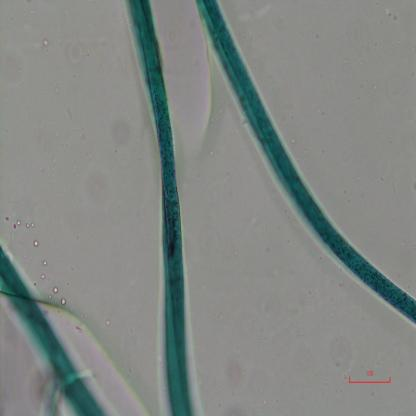Background material: (326, 333, 351, 381), (66, 29, 85, 64), (223, 358, 243, 386), (384, 4, 399, 22), (23, 220, 35, 230), (12, 220, 21, 232), (41, 34, 49, 47), (316, 105, 324, 116), (60, 296, 68, 306), (103, 316, 111, 326), (290, 136, 297, 145), (33, 238, 39, 248), (42, 257, 47, 267), (208, 147, 214, 155), (57, 87, 62, 96), (40, 274, 46, 280), (5, 214, 10, 221), (358, 83, 364, 88), (263, 401, 268, 407), (47, 295, 53, 300), (65, 278, 69, 285), (54, 287, 58, 293), (34, 282, 38, 286)
Microfibre: (196, 0, 415, 325), (124, 1, 198, 415), (0, 244, 106, 416)
